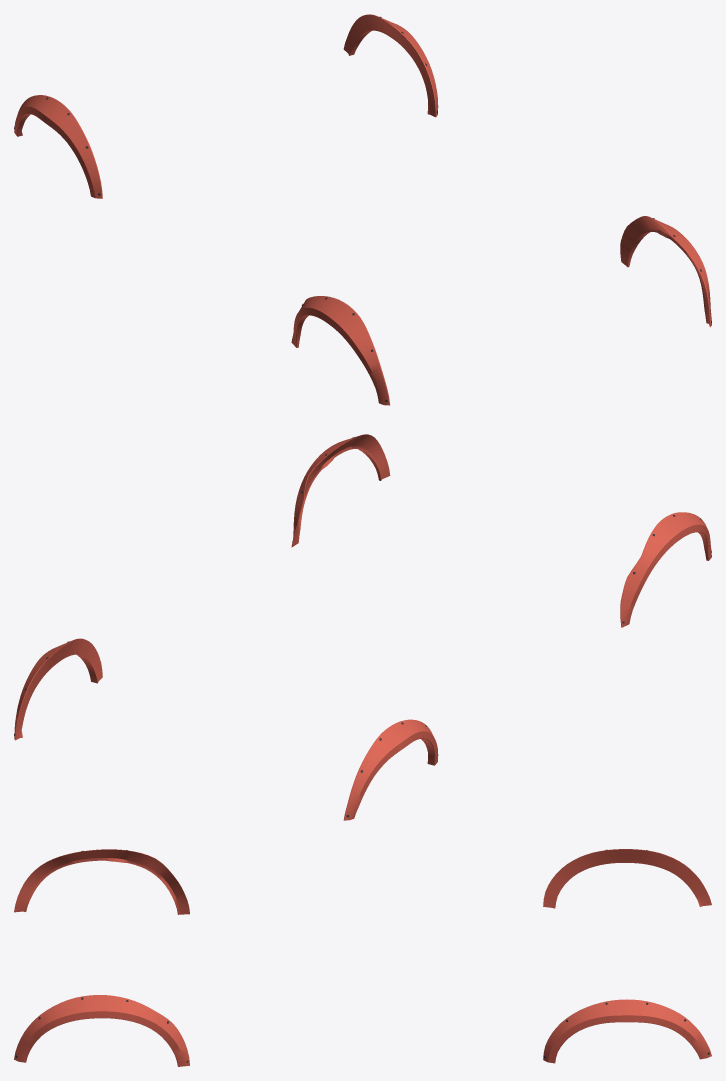
File: nakayaGrove_fenders_overMild.glb
The picture shows the model from 3 angles, top to bottom: view 1: azimuth 30°, elevation 25°; view 2: azimuth 150°, elevation 25°; view 3: azimuth 270°, elevation 25°; orthographic projection. The views are drawn at different scales.
Visible parts, largest first — view 1: fenders_overMild; view 2: fenders_overMild; view 3: fenders_overMild.
Part boxes in pixels (<box>): fenders_overMild: <box>14,14,711,405</box>; fenders_overMild: <box>14,434,711,820</box>; fenders_overMild: <box>14,849,711,1066</box>.
Bounding box in the file's own units: 1.84 × 0.3544 × 3.29.
